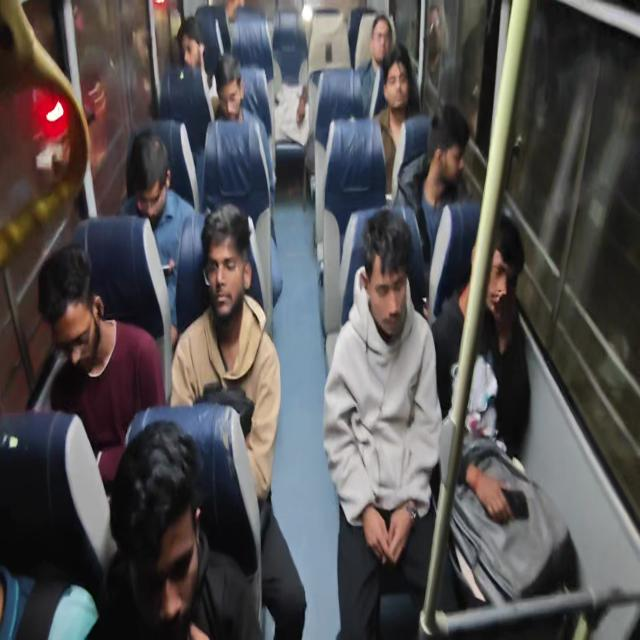person: (169, 202, 307, 638), (431, 212, 578, 614), (322, 208, 443, 638), (86, 418, 263, 639), (37, 243, 167, 489), (431, 213, 531, 465), (392, 102, 478, 319), (211, 53, 282, 305), (117, 129, 197, 342), (372, 43, 422, 203), (159, 16, 214, 153), (355, 13, 394, 118)
